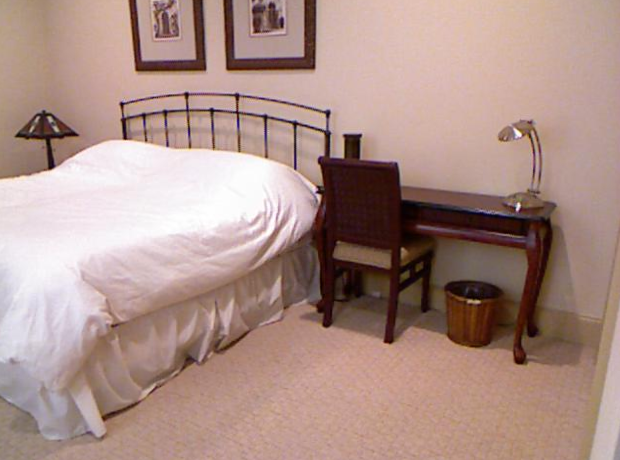chair: (317, 158, 433, 342)
table: (437, 186, 552, 364)
